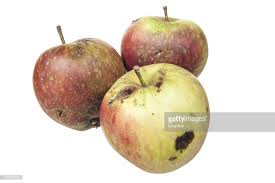damaged_apple: (102, 64, 220, 174), (33, 37, 125, 135), (120, 14, 209, 79)
